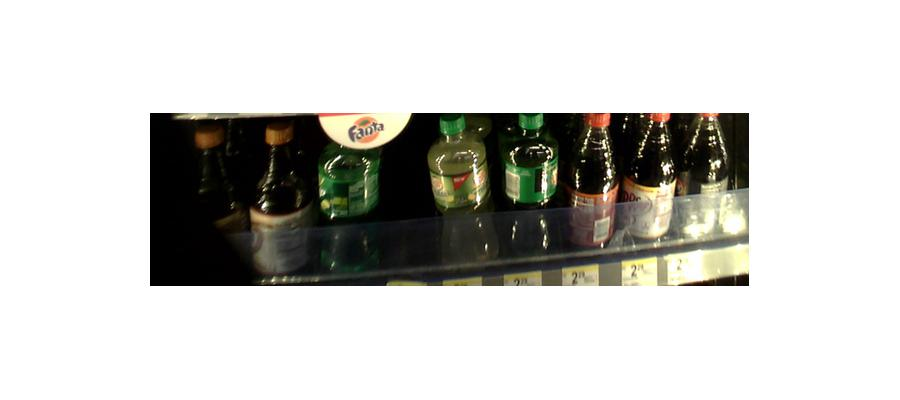bottle: (314, 119, 385, 271), (429, 112, 493, 265), (187, 113, 247, 264), (253, 116, 308, 279), (500, 112, 560, 258), (565, 111, 619, 252), (625, 110, 678, 243), (684, 110, 734, 243)
